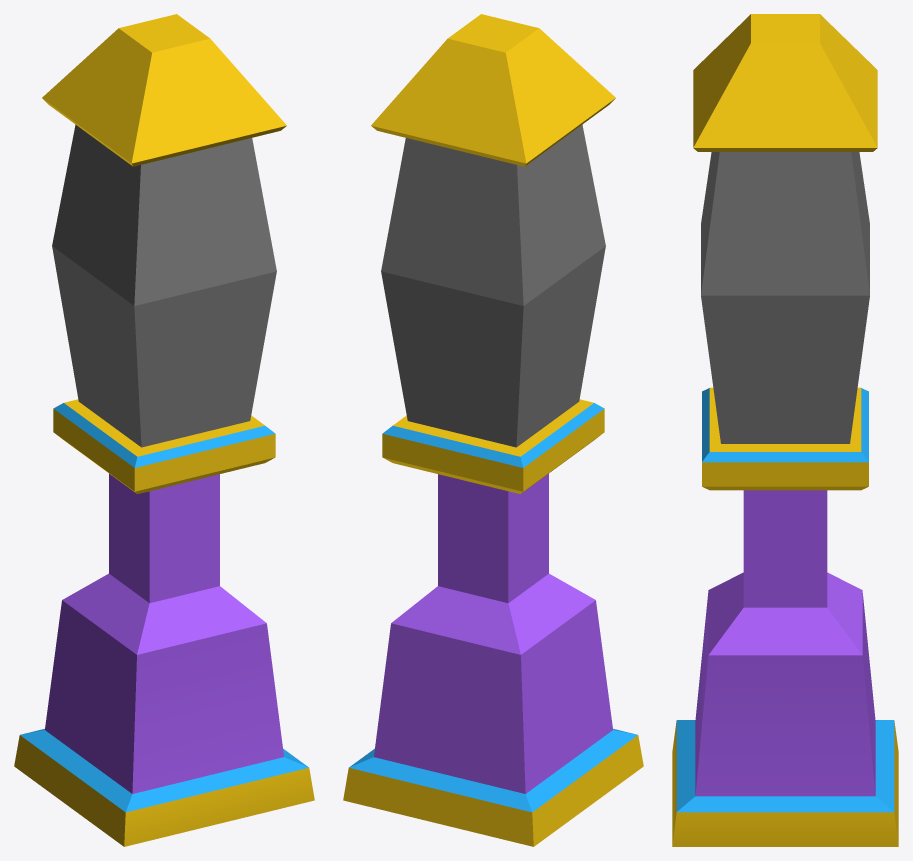
The model's file is LanternCute.fbx.
3 views of the same model, side by side, from view 1: azimuth 30°, elevation 25°; view 2: azimuth 150°, elevation 25°; view 3: azimuth 270°, elevation 25° (orthographic). The views are drawn at different scales.
Parts seen in each view (by area): view 1: lantern_cute; view 2: lantern_cute; view 3: lantern_cute.
Boxes of the visible parts, box(x1,y1,x2,y2) form: lantern_cute: box(14, 14, 314, 846); lantern_cute: box(343, 14, 643, 846); lantern_cute: box(672, 14, 898, 846).
Bounding box in the file's own units: 26.37 × 99.13 × 26.37.
